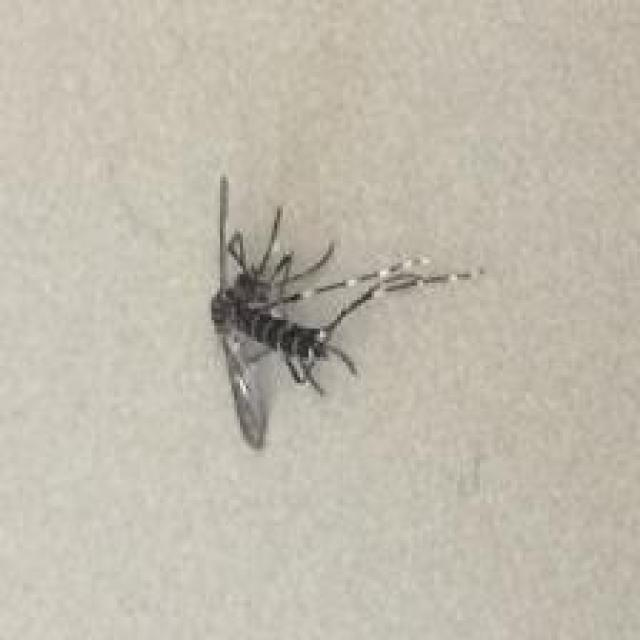Aedes albopictus: (207, 173, 484, 450)
